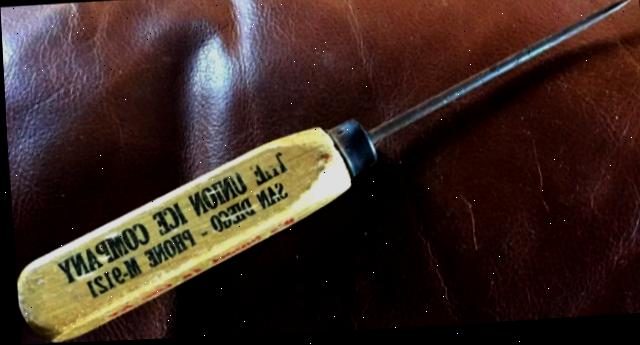ice pick: (1, 2, 640, 345)
